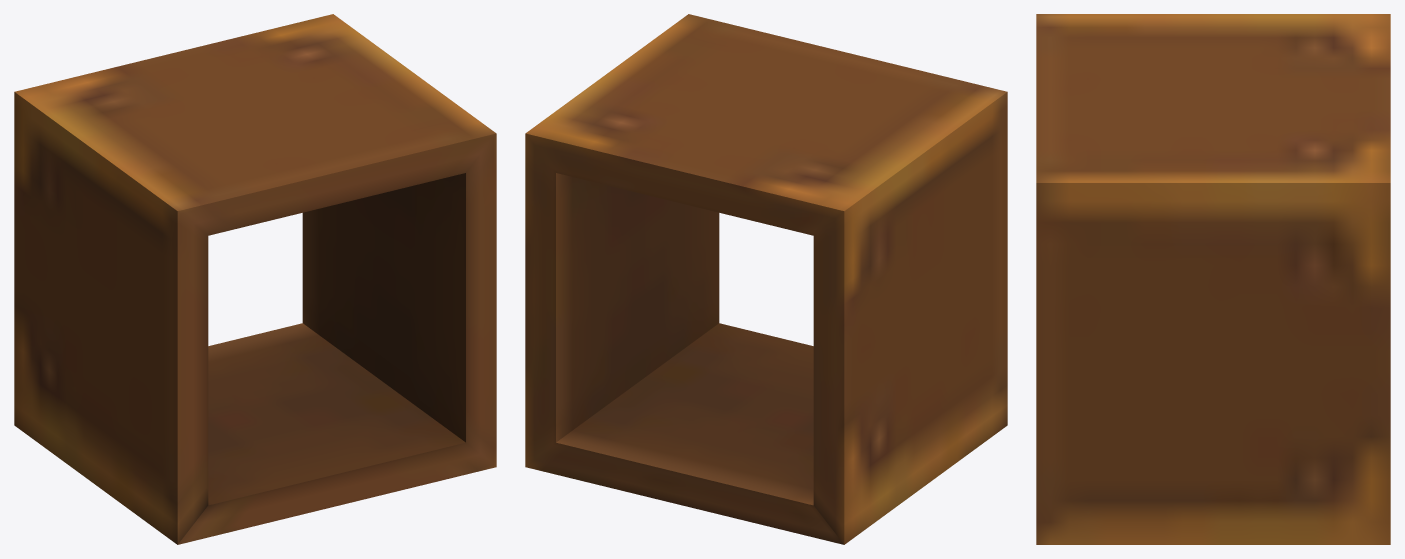
File: Cabinet_07.gltf
3 renders of one model, left to right at view 1: azimuth 30°, elevation 25°; view 2: azimuth 150°, elevation 25°; view 3: azimuth 270°, elevation 25°, orthographic. The views are drawn at different scales.
Visible parts, largest first — view 1: Cabinet_07; view 2: Cabinet_07; view 3: Cabinet_07.
Boxes of the visible parts, bbox=[...] form: Cabinet_07: bbox=[14, 14, 496, 544]; Cabinet_07: bbox=[525, 14, 1007, 544]; Cabinet_07: bbox=[1036, 14, 1390, 544].
Bounding box in the file's own units: 20.63 × 20.63 × 18.28.
Materials: 1 (1 with a texture image).
